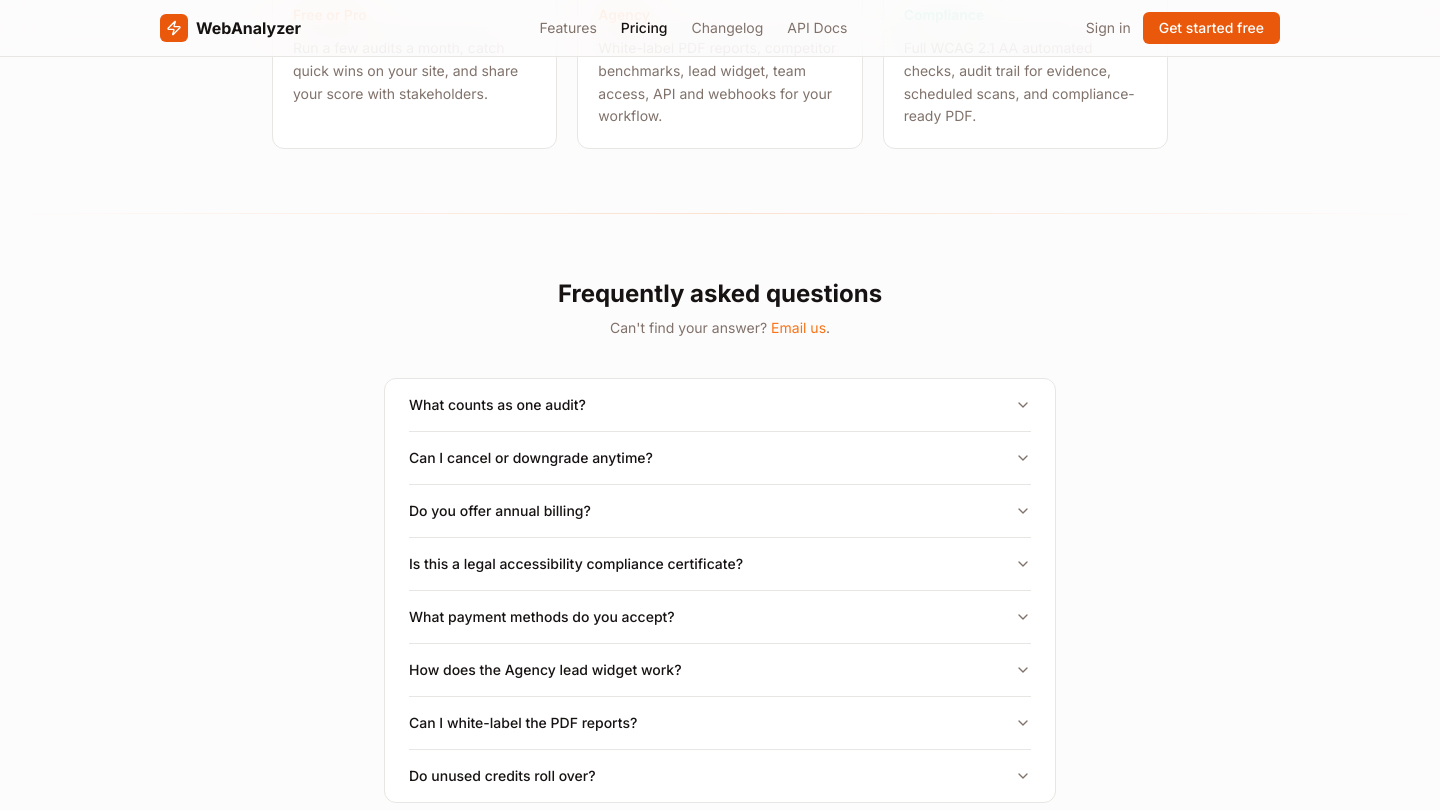
Test case: PricingPage component › FAQ item collapses when clicked twice
(page scrolled)
Click the button "What counts as one audit?".
click(497, 404)  # box [409,379,1031,431]
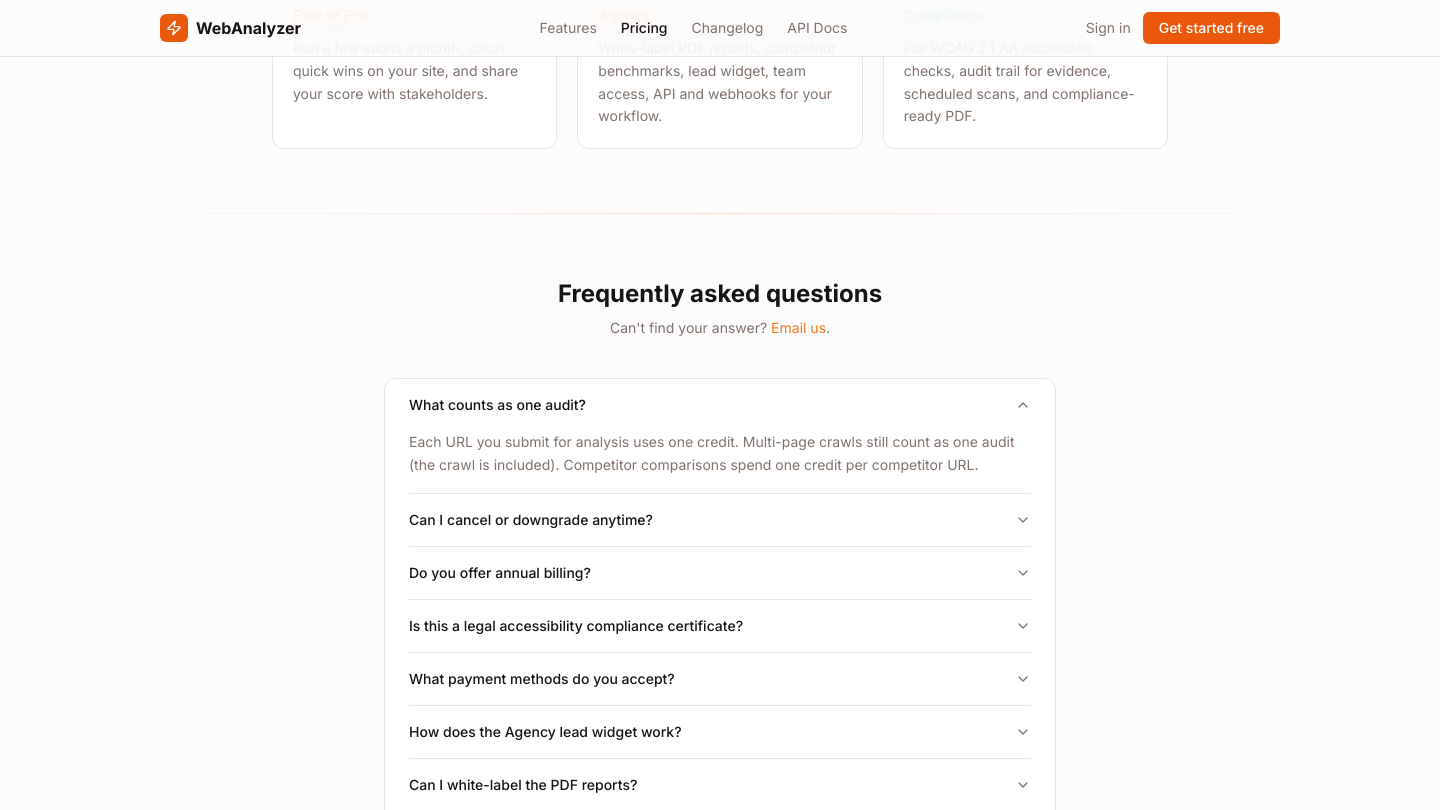
Click the button "What counts as one audit?".
click(497, 404)  # box [409,379,1031,431]
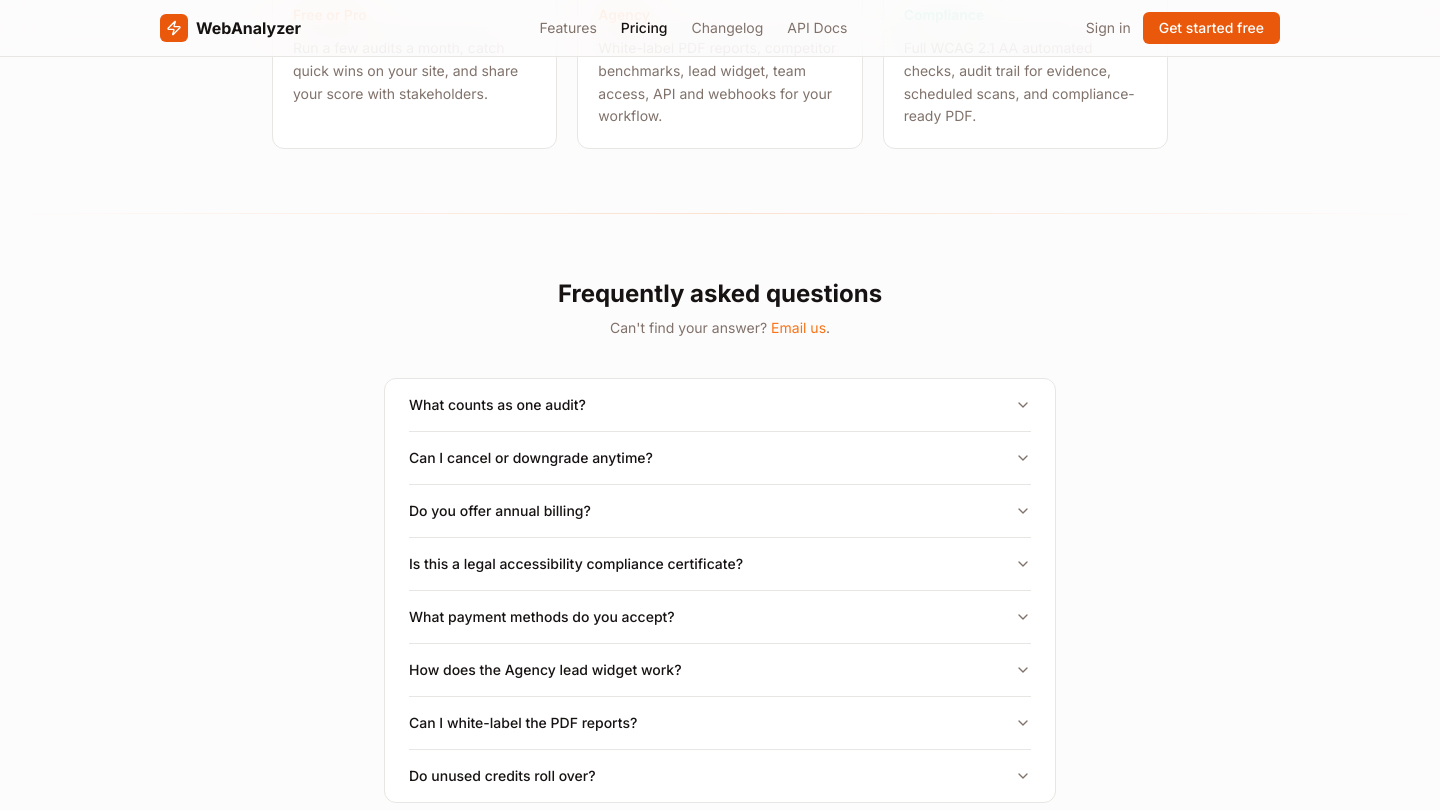
Expected: the text "Each URL you submit" is gone
